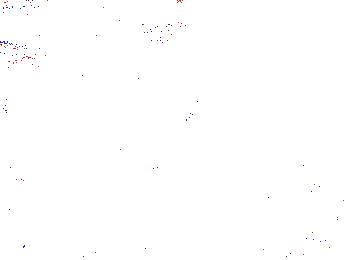moon jellyfish: (26, 7, 149, 60), (101, 82, 194, 151), (198, 66, 289, 133), (122, 21, 196, 86), (1, 42, 41, 86)
